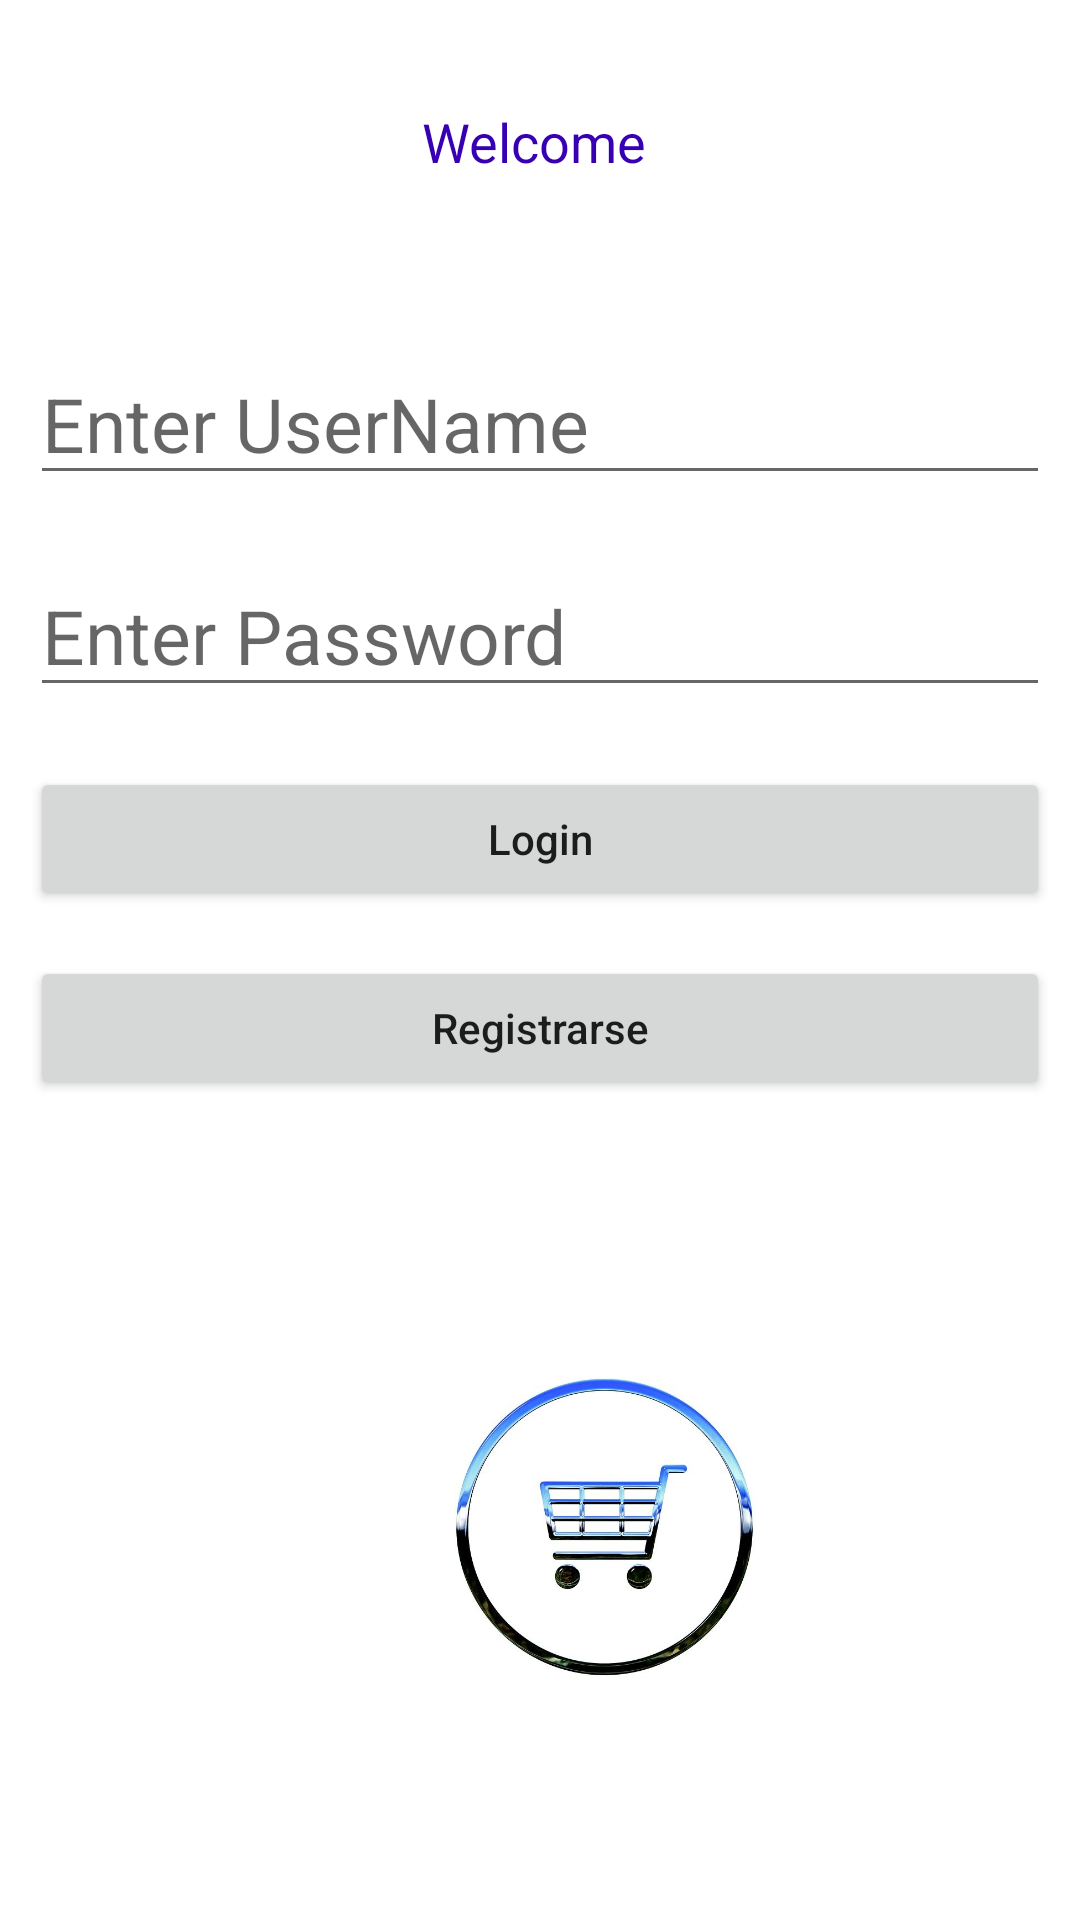

Icon click points for this 1080px x 1920px phone screenshot, format [x,y]:
buy: [604,1526]
